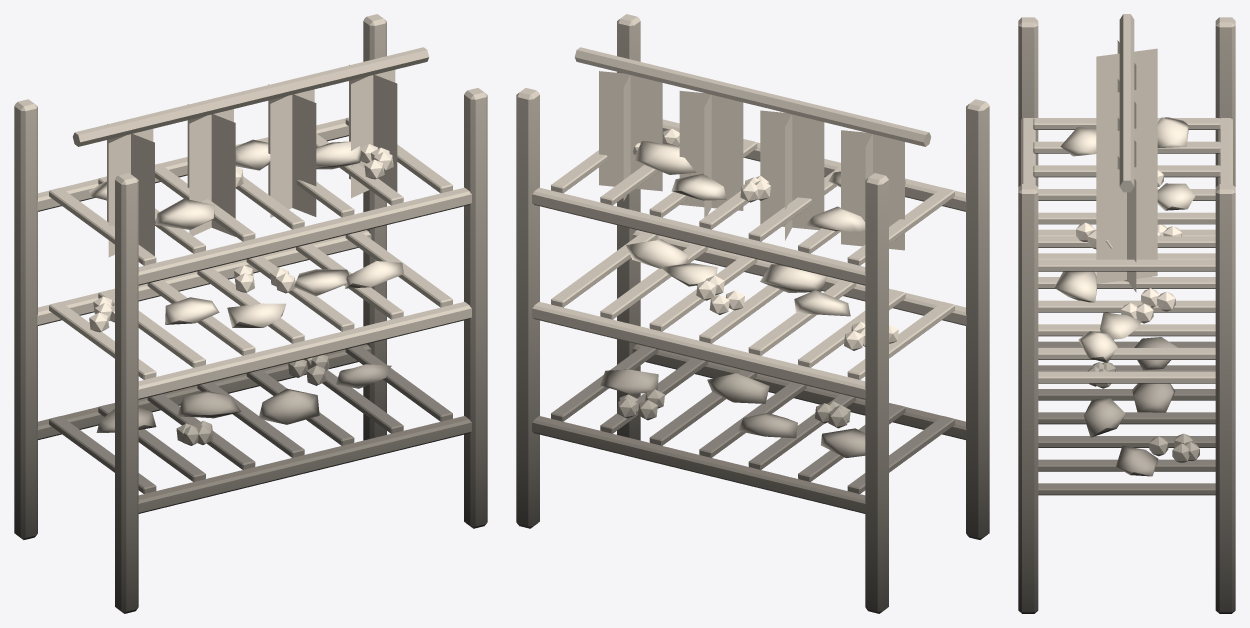
File: SM_VK_Prop_DryingRack_Herbs.fbx
3 views of the same model, side by side, from view 1: azimuth 30°, elevation 25°; view 2: azimuth 150°, elevation 25°; view 3: azimuth 270°, elevation 25° (orthographic). The views are drawn at different scales.
Visible parts, largest first — view 1: SM_VK_Prop_DryingRack_Herbs.001; view 2: SM_VK_Prop_DryingRack_Herbs.001; view 3: SM_VK_Prop_DryingRack_Herbs.001.
Part boxes in pixels (x1=…): SM_VK_Prop_DryingRack_Herbs.001: x1=14, y1=14, x2=487, y2=613; SM_VK_Prop_DryingRack_Herbs.001: x1=516, y1=14, x2=989, y2=613; SM_VK_Prop_DryingRack_Herbs.001: x1=1018, y1=14, x2=1235, y2=613.
Size of the model in its own units: 1.68 by 1.93 by 0.88.
